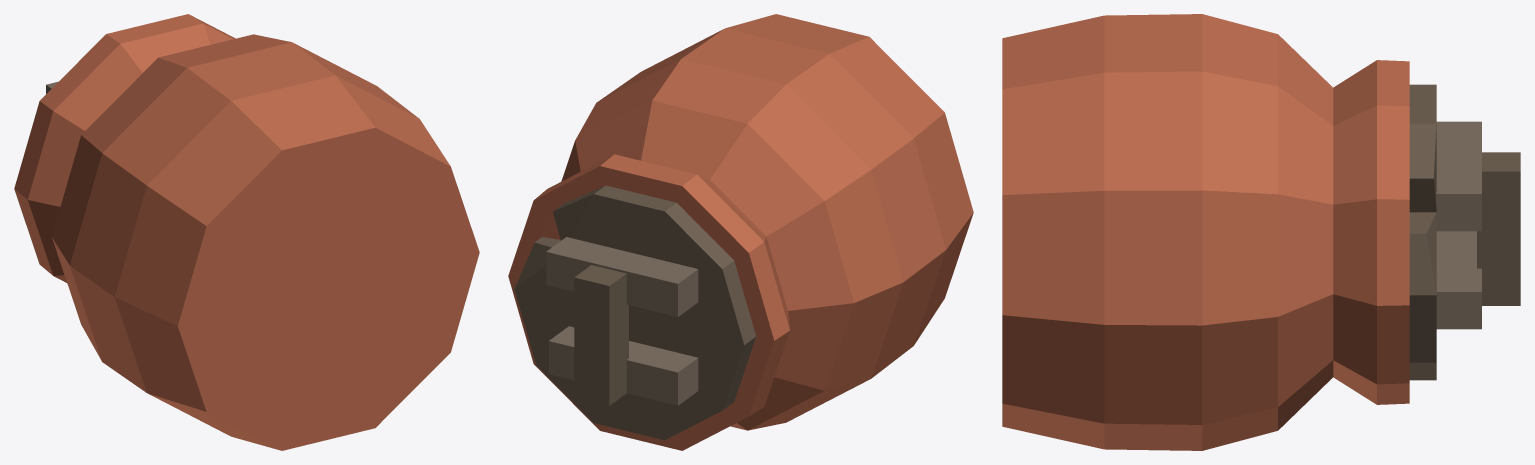
Rendered from pot_3.glb.
3 renders of one model, left to right at view 1: azimuth 30°, elevation 25°; view 2: azimuth 150°, elevation 25°; view 3: azimuth 270°, elevation 25°, orthographic. The views are drawn at different scales.
Visible parts, largest first — view 1: pot_3; view 2: pot_3; view 3: pot_3.
Boxes of the visible parts, left/top/right/bottom form: pot_3: left=14, top=14, right=479, bottom=450; pot_3: left=508, top=14, right=973, bottom=450; pot_3: left=1002, top=14, right=1520, bottom=450.
Bounding box in the file's own units: 0.4672 × 0.4443 × 0.55.
1 material, 1 textured.
